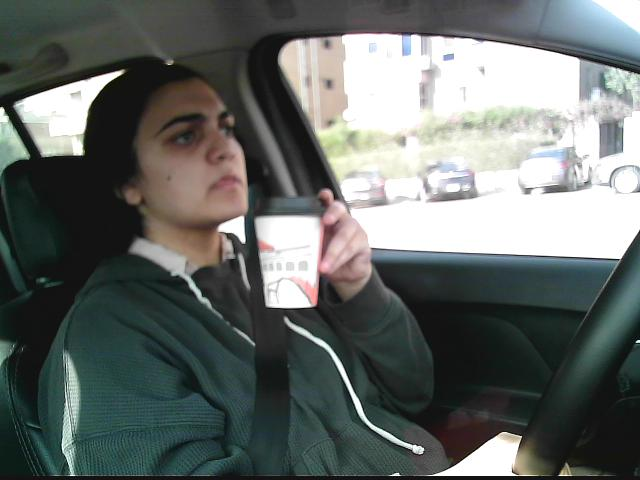Drinking: (248, 191, 328, 312)
